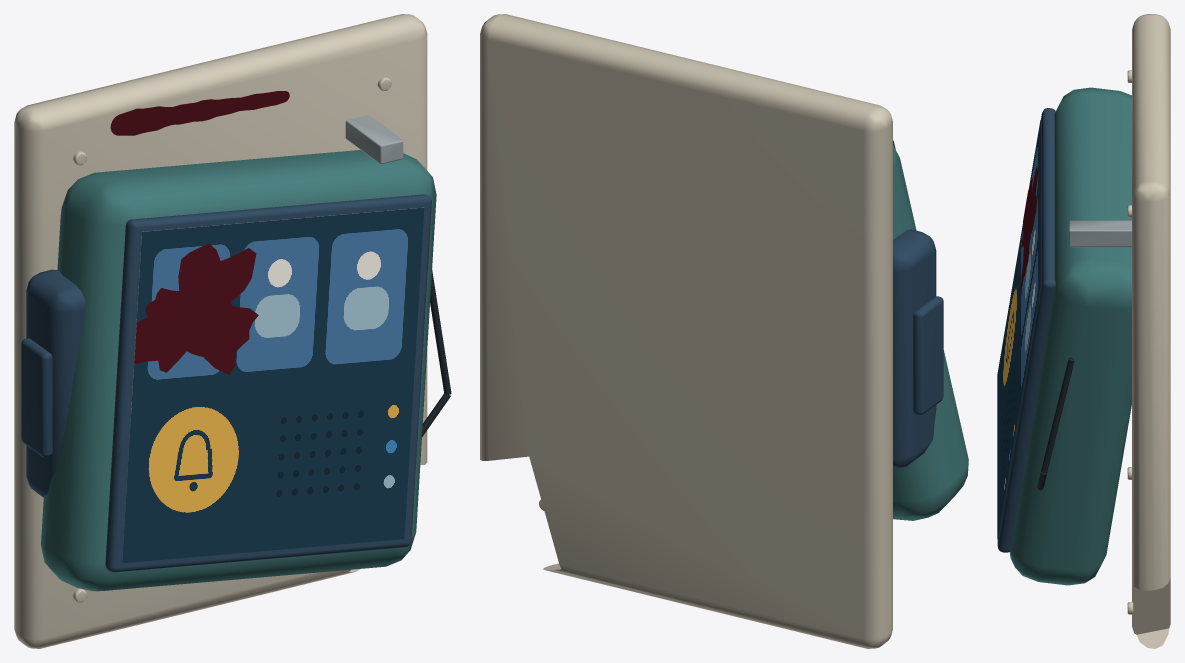
The model's file is team_wall_station.glb.
3 views of the same model, side by side, from view 1: azimuth 30°, elevation 25°; view 2: azimuth 150°, elevation 25°; view 3: azimuth 270°, elevation 25° (orthographic). The views are drawn at different scales.
Visible parts, largest first — view 1: OB_TeamWallStation_01_Static; view 2: OB_TeamWallStation_01_Static; view 3: OB_TeamWallStation_01_Static.
Part boxes in pixels (<box>): OB_TeamWallStation_01_Static: <box>14,14,451,648</box>; OB_TeamWallStation_01_Static: <box>480,14,968,648</box>; OB_TeamWallStation_01_Static: <box>997,14,1170,648</box>.
Size of the model in its own units: 0.801 by 0.98 by 0.315.
Materials: 7 (1 with a texture image).
